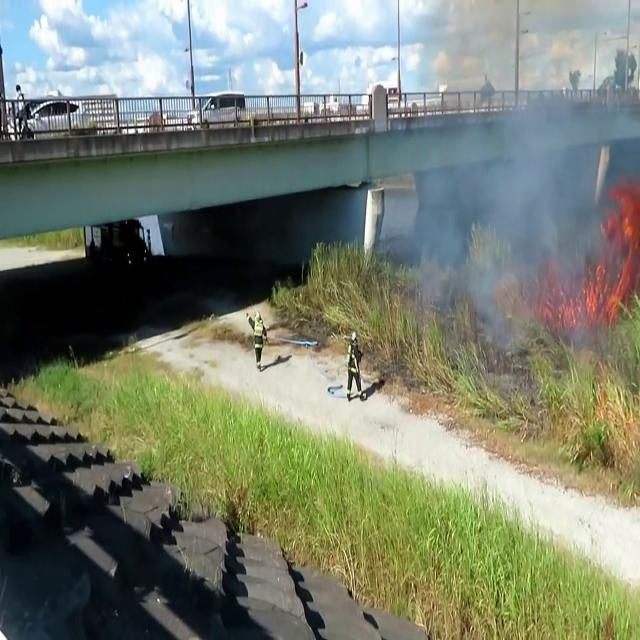Fire: (581, 136, 640, 326)
Smoke: (400, 48, 640, 334)
